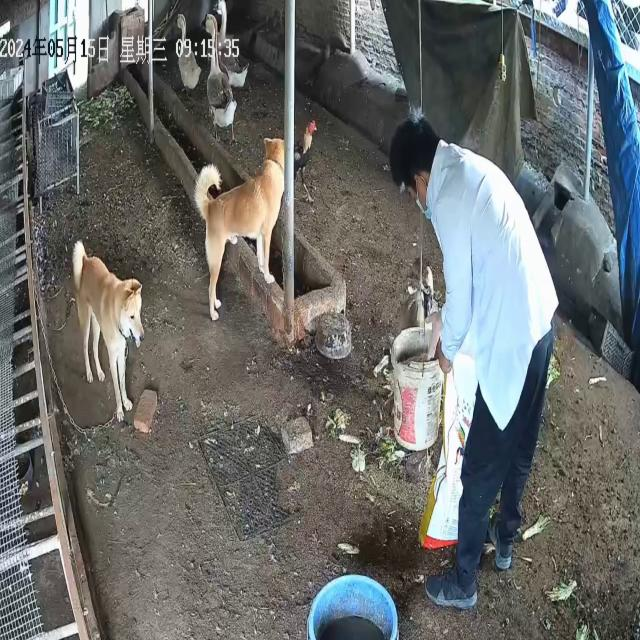dog: (194, 137, 286, 323), (72, 240, 146, 425)
